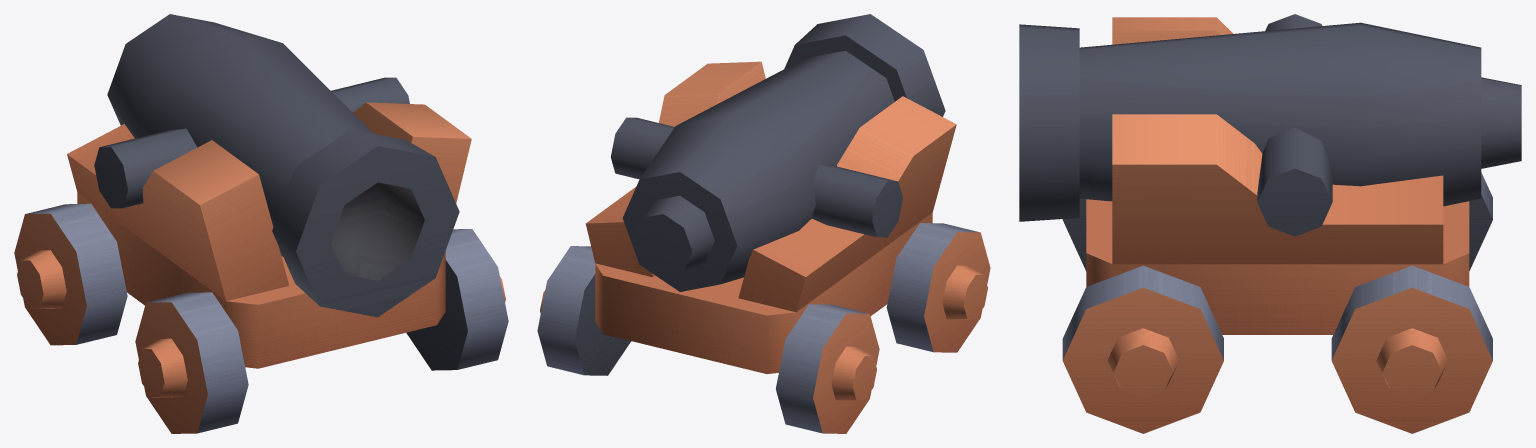
Rendered from cannon-mobile.glb.
3 renders of one model, left to right at view 1: azimuth 30°, elevation 25°; view 2: azimuth 150°, elevation 25°; view 3: azimuth 270°, elevation 25°, orthographic. The views are drawn at different scales.
Visible parts, largest first — view 1: cannon-mobile; view 2: cannon-mobile; view 3: cannon-mobile.
Part boxes in pixels (x1,y1,x2,y2): cannon-mobile: (14,14,508,433); cannon-mobile: (537,14,990,433); cannon-mobile: (1019,14,1521,433).
Size of the model in its own units: 0.5452 by 0.4481 by 0.6252.
1 material, 1 textured.
